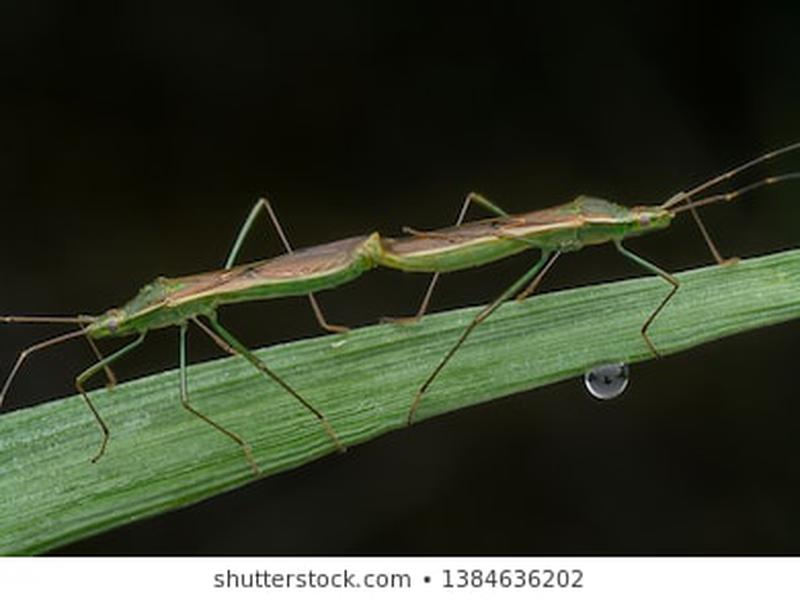Rice_earhead_bug: (52, 174, 738, 371)
